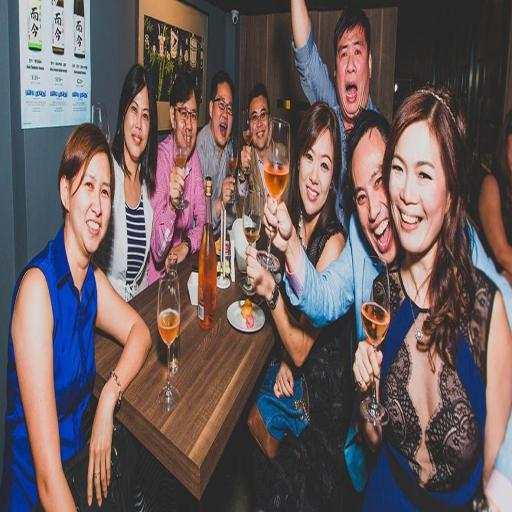person: (354, 87, 511, 510), (0, 125, 150, 511), (247, 246, 354, 511), (266, 111, 397, 326), (291, 0, 376, 232), (95, 64, 157, 300), (148, 73, 205, 284), (197, 71, 235, 233), (479, 110, 511, 284), (238, 83, 270, 211)
